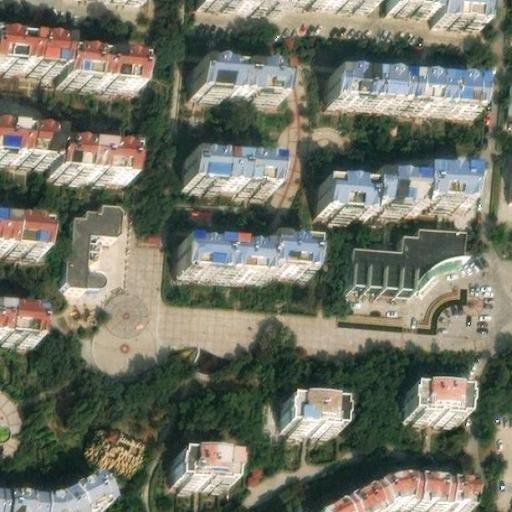building: (0, 30, 143, 84), (316, 170, 469, 219), (351, 222, 469, 283), (0, 122, 135, 174), (327, 73, 477, 113), (178, 240, 310, 278), (315, 481, 467, 512), (76, 421, 145, 488), (69, 196, 124, 280), (0, 479, 107, 512), (185, 154, 274, 190), (194, 62, 279, 98), (402, 387, 465, 417), (278, 398, 341, 428), (171, 453, 230, 485), (0, 216, 44, 252), (0, 305, 40, 338)
